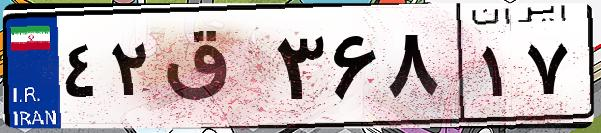1: (475, 38, 525, 113)
2: (110, 28, 158, 98)
3: (270, 28, 330, 110)
4: (57, 26, 110, 100)
6: (330, 28, 385, 110)
7: (525, 38, 570, 115)
8: (385, 28, 445, 110)
ق: (158, 20, 270, 120)
